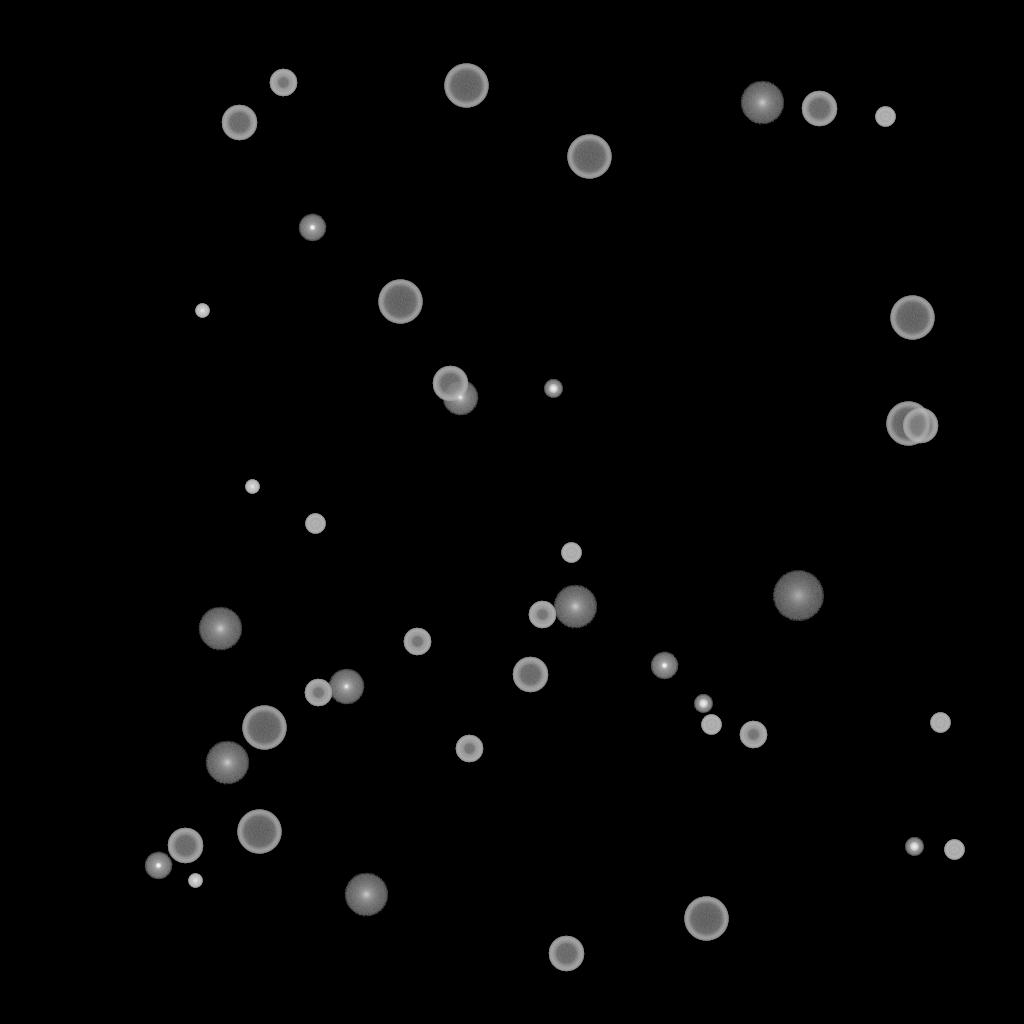depth:-10: (298, 214, 326, 242), (650, 652, 678, 680), (144, 852, 172, 880)
depth:-20: (905, 838, 923, 856), (544, 380, 562, 398), (694, 695, 712, 713)
depth:-30: (195, 304, 209, 318), (245, 480, 259, 494), (188, 874, 202, 888)
depth:-40: (875, 107, 895, 127), (561, 543, 581, 563), (930, 713, 950, 733), (701, 715, 721, 735), (944, 840, 964, 860), (305, 514, 325, 534)
depth:-50: (455, 735, 483, 763), (403, 628, 431, 656), (528, 601, 556, 629), (739, 721, 767, 749), (269, 69, 297, 97), (304, 679, 332, 707)
depth:-60: (221, 105, 257, 141), (167, 828, 203, 864), (512, 657, 548, 693), (548, 936, 584, 972), (902, 408, 938, 444), (432, 366, 468, 402), (801, 91, 837, 127)
depth:-70: (242, 706, 286, 750), (378, 280, 422, 324), (886, 402, 930, 446), (567, 135, 611, 179), (237, 810, 281, 854), (684, 897, 728, 941), (444, 64, 488, 108), (890, 296, 934, 340)
depth:0: (442, 380, 478, 416), (328, 669, 364, 705)
depth:10: (198, 607, 242, 651), (344, 873, 388, 917), (205, 741, 249, 785), (553, 585, 597, 629), (740, 81, 784, 125)
depth:20: (772, 571, 824, 621)
